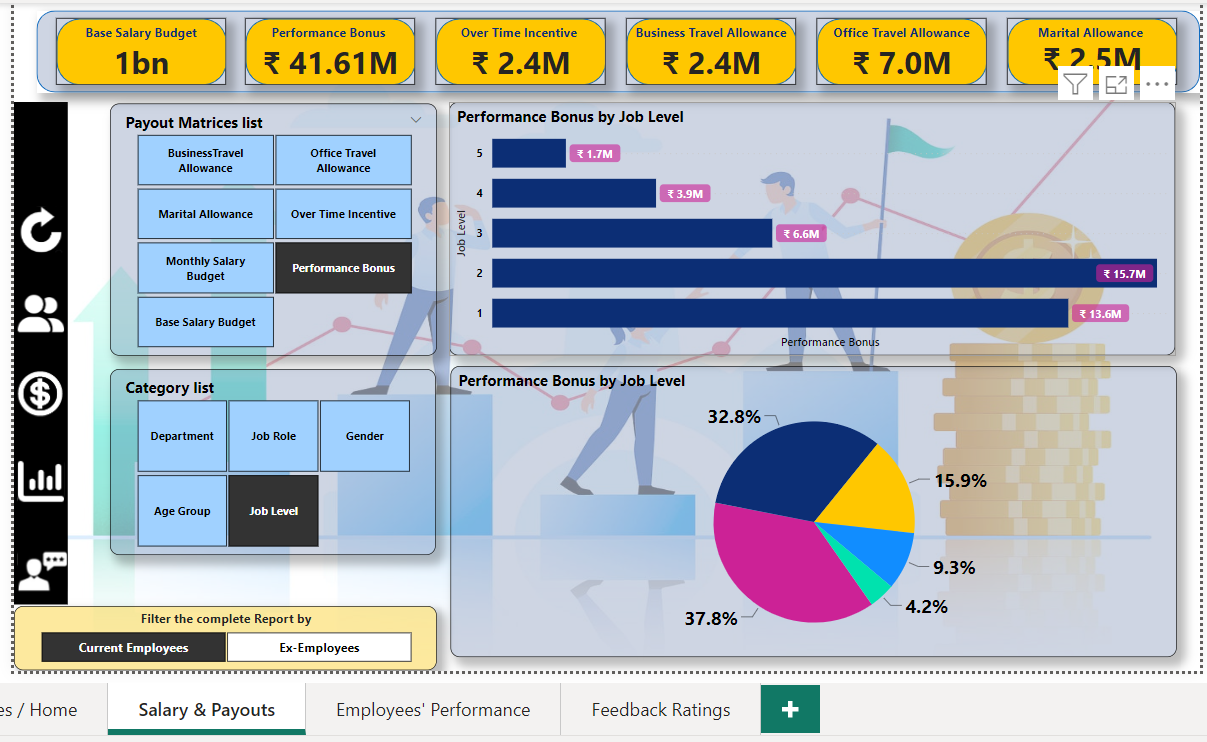

Layout of this report page (visuals, bound fields, positions):
{"tool":"powerbi","page":{"name":"Salary & Payouts","canvas":[1280,720],"ordinal":1},"visuals":[{"type":"shape","title":"backgroung","box":[24.3,8.1,1255,88.3],"z":0,"group":"g2"},{"type":"shape","box":[45.6,16.1,183.3,71.7],"z":0,"group":"g1"},{"type":"shape","box":[249.6,16.7,183.3,71.7],"z":0,"group":"g6"},{"type":"shape","box":[455,16.7,183.3,71.7],"z":0,"group":"g5"},{"type":"shape","box":[660.9,16.7,183.3,71.7],"z":0,"group":"g7"},{"type":"shape","box":[865.6,16.7,183.3,71.7],"z":0,"group":"g4"},{"type":"shape","box":[1071,16.7,183.3,71.7],"z":0,"group":"g3"},{"type":"actionButton","box":[0,212,58.2,64.7],"z":0,"group":"g8"},{"type":"slicer","title":"Filter the complete Report by","fields":{"Values":["Employees.attrition label"]},"box":[0,650.4,456.3,69.6],"z":0},{"type":"group","id":"g1","title":"Group 2","box":[45.6,16.1,183.3,71.7],"z":1000,"group":"g2"},{"type":"textbox","box":[45.6,16.1,183.3,36.7],"z":1000,"group":"g1"},{"type":"textbox","box":[249.6,16.7,183.3,36.7],"z":1000,"group":"g6"},{"type":"textbox","box":[455,16.7,183.3,36.7],"z":1000,"group":"g5"},{"type":"textbox","box":[660.3,16.7,183.3,36.7],"z":1000,"group":"g7"},{"type":"textbox","box":[865.6,16.7,183.3,36.7],"z":1000,"group":"g4"},{"type":"textbox","box":[1071,16.7,183.3,36.7],"z":1000,"group":"g3"},{"type":"shape","box":[0,106.8,58.2,542],"z":1000},{"type":"actionButton","box":[0,305.8,58.2,58.2],"z":1000,"group":"g8"},{"type":"group","id":"g2","title":"Group 3","box":[24.3,8.1,1255,88.3],"z":2000},{"type":"group","id":"g3","title":"Group 2","box":[1071,16.7,183.3,71.7],"z":2000,"group":"g2"},{"type":"card","title":"card","fields":{"Values":["Measures Table.$ Marital Allowance Paid Amount"]},"box":[1071.6,36.5,183.3,46.7],"z":2000,"group":"g3"},{"type":"card","title":"card","fields":{"Values":["Measures Table.$ yearly (base) Salary Budget"]},"box":[45.6,41.1,183.3,46.7],"z":2000,"group":"g1"},{"type":"card","title":"card","fields":{"Values":["Measures Table.$ Performance Bonus amount Paid"]},"box":[249.6,41.7,183.3,46.7],"z":2000,"group":"g6"},{"type":"card","title":"card","fields":{"Values":["Measures Table.$ Over Time Incentive Amount Paid"]},"box":[455,41.7,183.3,46.7],"z":2000,"group":"g5"},{"type":"card","title":"card","fields":{"Values":["Measures Table.$ BusinessTravel Allowance Paid Amount"]},"box":[660.3,41.7,183.3,46.7],"z":2000,"group":"g7"},{"type":"card","title":"card","fields":{"Values":["Measures Table.$ Office Travel Allowance Paid Amount"]},"box":[865.6,41.7,183.3,46.7],"z":2000,"group":"g4"},{"type":"actionButton","box":[0,393.2,58.2,56.6],"z":2000,"group":"g8"},{"type":"group","id":"g4","title":"Group 2","box":[865.6,16.7,183.3,71.7],"z":3000,"group":"g2"},{"type":"slicer","fields":{"Values":["#Parameter set of Payout Matrices.#Parameter set of Payout Matrices"]},"box":[103.6,108.4,352.7,271.8],"z":3000},{"type":"actionButton","box":[0,479,58.2,74.4],"z":3000,"group":"g8"},{"type":"group","id":"g5","title":"Group 2","box":[455,16.7,183.3,71.7],"z":4000,"group":"g2"},{"type":"barChart","fields":{"Y":["Measures Table.$ yearly (base) Salary Budget"],"Category":["Employees.Gender"]},"box":[469.2,106.8,784.7,273.4],"z":4000},{"type":"actionButton","box":[0,582.5,69.6,61.5],"z":4000,"group":"g8"},{"type":"group","id":"g6","title":"Group 2","box":[249.6,16.7,183.3,71.7],"z":5000,"group":"g2"},{"type":"slicer","fields":{"Values":["#Parameter- Category list.#Parameter- Category list"]},"box":[105.2,391.6,351.1,200.6],"z":5000},{"type":"group","id":"g7","title":"Business Travel payout","box":[660.3,16.7,183.3,71.7],"z":6000,"group":"g2"},{"type":"pieChart","fields":{"Y":["Measures Table.$ yearly (base) Salary Budget"],"Category":["Employees.Gender"]},"box":[470.8,391.6,783.1,313.9],"z":6000},{"type":"group","id":"g8","title":"Group 6","box":[0,212,69.6,432],"z":7000}]}

Visuals, with their boxes on the page's 1280x720 design canvas (x1, y1, x2, y2). These are canvas units, not pixel positions in the 1207x742 screenshot, which may show the page scaled, cropped or inside an application window:
"backgroung" shape: crop(24, 8, 1279, 96)
shape: crop(46, 16, 229, 88)
shape: crop(250, 17, 433, 88)
shape: crop(455, 17, 638, 88)
shape: crop(661, 17, 844, 88)
shape: crop(866, 17, 1049, 88)
shape: crop(1071, 17, 1254, 88)
actionButton: crop(0, 212, 58, 277)
"Filter the complete Report by" slicer: crop(0, 650, 456, 720)
"Group 2" group: crop(46, 16, 229, 88)
textbox: crop(46, 16, 229, 53)
textbox: crop(250, 17, 433, 53)
textbox: crop(455, 17, 638, 53)
textbox: crop(660, 17, 844, 53)
textbox: crop(866, 17, 1049, 53)
textbox: crop(1071, 17, 1254, 53)
shape: crop(0, 107, 58, 649)
actionButton: crop(0, 306, 58, 364)
"Group 3" group: crop(24, 8, 1279, 96)
"Group 2" group: crop(1071, 17, 1254, 88)
"card" card: crop(1072, 36, 1255, 83)
"card" card: crop(46, 41, 229, 88)
"card" card: crop(250, 42, 433, 88)
"card" card: crop(455, 42, 638, 88)
"card" card: crop(660, 42, 844, 88)
"card" card: crop(866, 42, 1049, 88)
actionButton: crop(0, 393, 58, 450)
"Group 2" group: crop(866, 17, 1049, 88)
slicer - #Parameter set of Payout Matrices.#Parameter set of Payout Matrices: crop(104, 108, 456, 380)
actionButton: crop(0, 479, 58, 553)
"Group 2" group: crop(455, 17, 638, 88)
barChart - Measures Table.$ yearly (base) Salary Budget x Employees.Gender: crop(469, 107, 1254, 380)
actionButton: crop(0, 582, 70, 644)
"Group 2" group: crop(250, 17, 433, 88)
slicer - #Parameter- Category list.#Parameter- Category list: crop(105, 392, 456, 592)
"Business Travel payout" group: crop(660, 17, 844, 88)
pieChart - Measures Table.$ yearly (base) Salary Budget x Employees.Gender: crop(471, 392, 1254, 706)
"Group 6" group: crop(0, 212, 70, 644)
